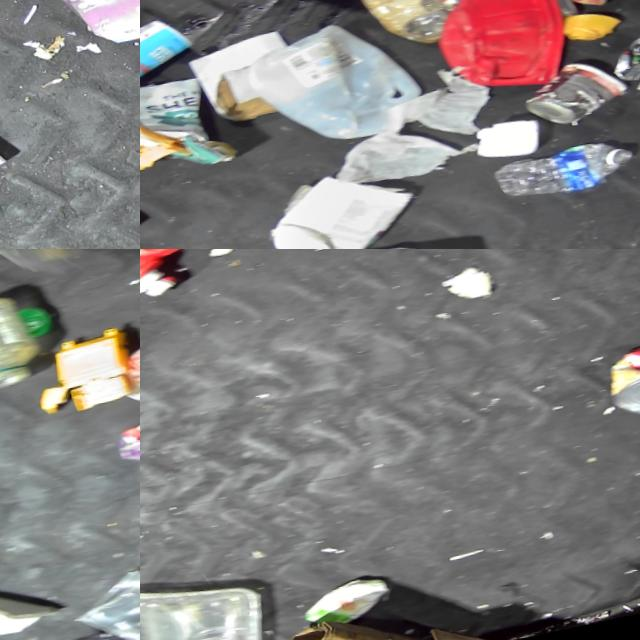can: (509, 56, 634, 140), (591, 343, 640, 433), (110, 324, 140, 419), (600, 34, 640, 91)
milk_jug: (235, 11, 431, 162)
non_white_jug: (140, 249, 260, 322), (22, 0, 140, 58)
plastic_bottle: (480, 141, 637, 213)
